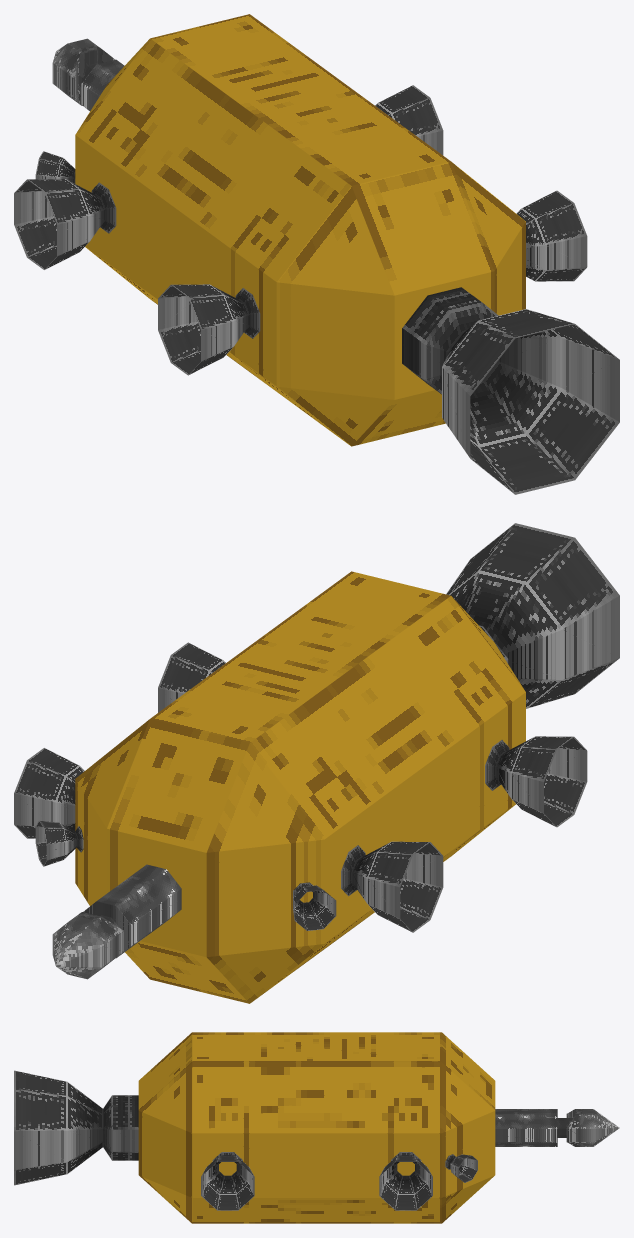
Rendered from drone.glb.
3 views of the same model, one above another, from view 1: azimuth 30°, elevation 25°; view 2: azimuth 150°, elevation 25°; view 3: azimuth 270°, elevation 25° (orthographic). The views are drawn at different scales.
Parts seen in each view (by area): view 1: body, thruster, thruster.001, thruster.003, thruster.006, pilon, thruster.005, thruster.002; view 2: body, thruster, pilon, thruster.001, thruster.003, thruster.005, thruster.006, thruster.004, thruster.002; view 3: body, thruster, pilon, thruster.005, thruster.006, thruster.004.
Part boxes in pixels (x1,y1,x2,y2): body: (75, 14, 525, 446); thruster: (402, 287, 619, 494); thruster.001: (158, 284, 260, 375); thruster.003: (14, 179, 116, 269); thruster.006: (516, 190, 587, 281); pilon: (52, 38, 124, 110); thruster.005: (375, 85, 443, 155); thruster.002: (35, 151, 75, 183); body: (75, 571, 525, 1003); thruster: (446, 523, 619, 708); pilon: (52, 864, 181, 979); thruster.001: (485, 736, 587, 827); thruster.003: (341, 841, 443, 932); thruster.005: (14, 748, 84, 838); thruster.006: (158, 642, 225, 712); thruster.004: (35, 820, 83, 866); thruster.002: (293, 882, 336, 930); body: (138, 1032, 495, 1223); thruster: (14, 1070, 138, 1185); pilon: (495, 1109, 619, 1146); thruster.005: (379, 1152, 432, 1210); thruster.006: (201, 1152, 254, 1210); thruster.004: (445, 1154, 477, 1182).
Bounding box in the file's own units: 3.1 × 2 × 6.8.
Materials: 3 (3 with a texture image).
